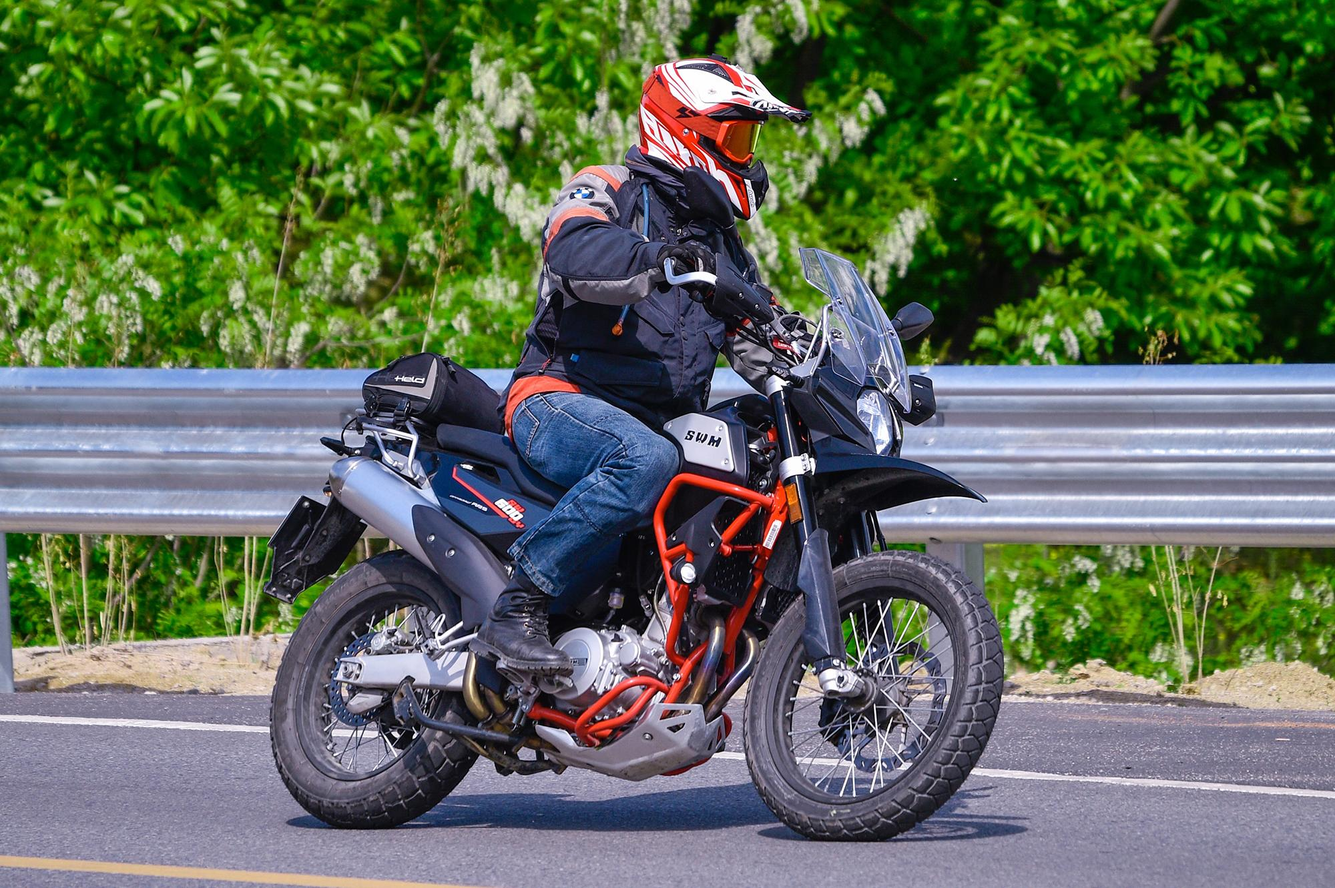helmet: (637, 52, 813, 221)
